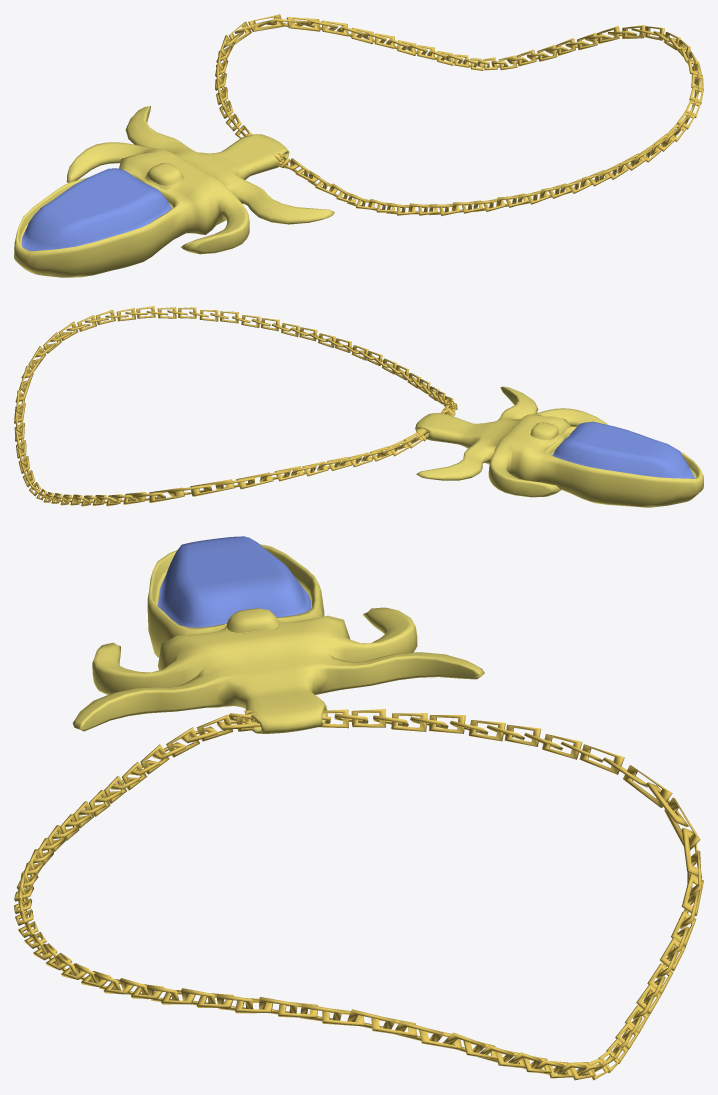
File: water_amulet.fbx
The picture shows the model from 3 angles, top to bottom: view 1: azimuth 30°, elevation 25°; view 2: azimuth 150°, elevation 25°; view 3: azimuth 270°, elevation 25°; orthographic projection. The views are drawn at different scales.
Parts seen in each view (by area): view 1: Amulet _baked, Cube.012_baked; view 2: Amulet _baked, Cube.012_baked; view 3: Amulet _baked, Cube.012_baked.
Part boxes in pixels (x1=…): Amulet _baked: x1=14, y1=106, x2=334, y2=277; Cube.012_baked: x1=215, y1=14, x2=703, y2=216; Amulet _baked: x1=415, y1=386, x2=703, y2=507; Cube.012_baked: x1=14, y1=306, x2=457, y2=506; Amulet _baked: x1=72, y1=536, x2=484, y2=733; Cube.012_baked: x1=14, y1=709, x2=703, y2=1080.
Bounding box in the file's own units: 31.39 × 4.4 × 18.64.
